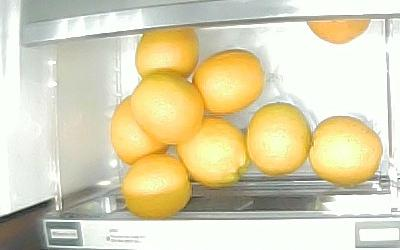orange: (130, 72, 204, 144), (176, 116, 250, 188), (308, 116, 383, 186), (246, 102, 312, 176), (192, 49, 264, 114), (122, 154, 192, 217), (111, 95, 168, 165), (135, 27, 198, 79), (307, 19, 371, 43)
